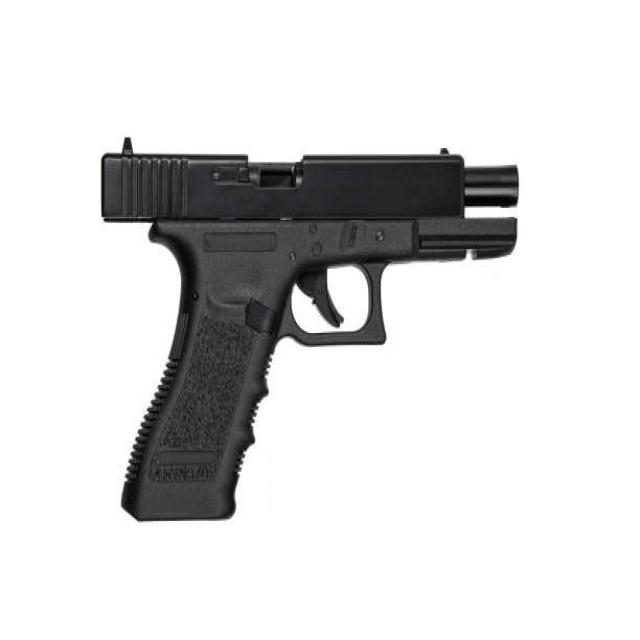pistol: (93, 134, 536, 532)
